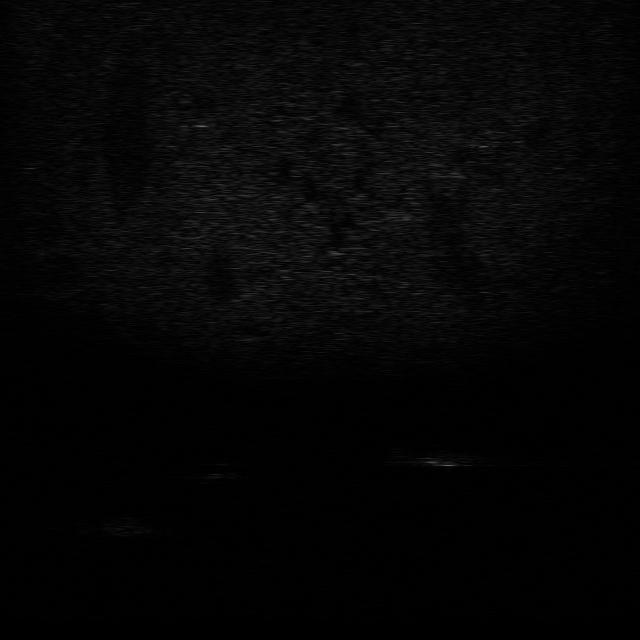ball: (192, 458, 242, 482)
circle cage: (76, 509, 158, 541)
human body: (380, 444, 496, 471)
